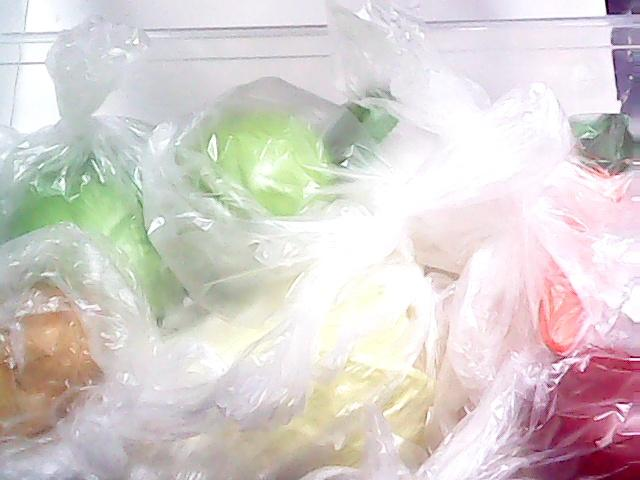apple: (144, 109, 322, 275), (487, 336, 640, 479)
cabbage: (0, 122, 188, 322)
carrot: (534, 110, 640, 358)
napa cabbage: (44, 216, 440, 480)
potato: (0, 286, 112, 442)
radish: (327, 73, 578, 282)
